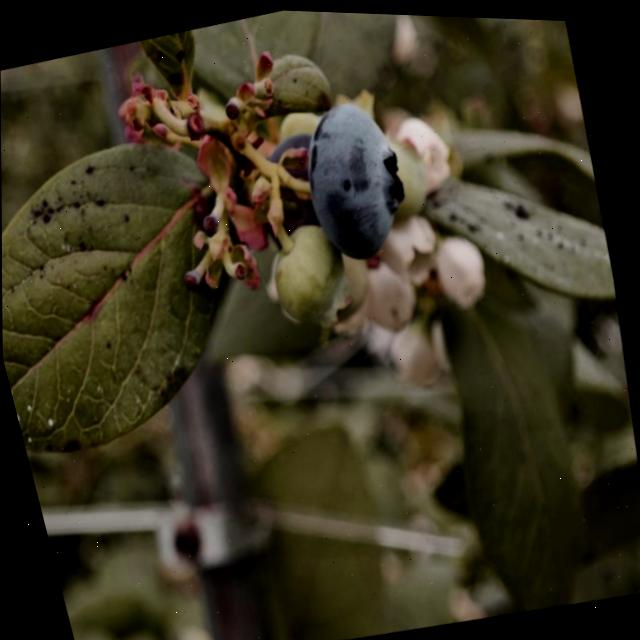RipeBlueBerry: (282, 82, 436, 279)
